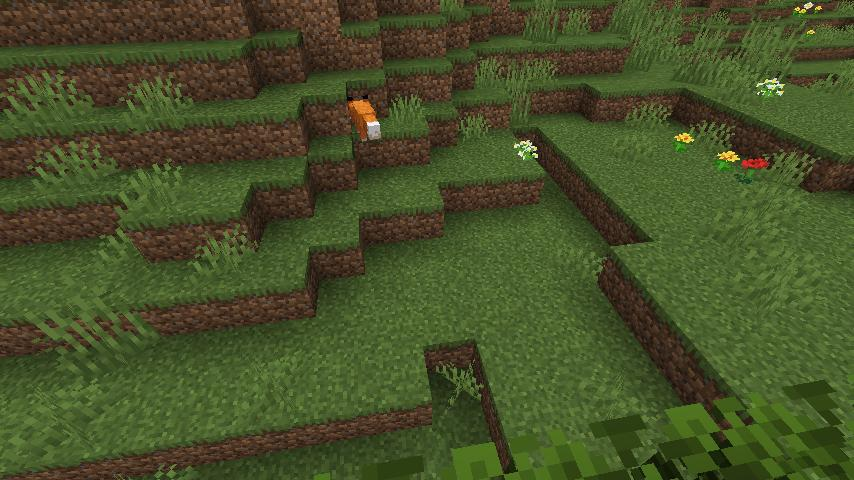fox: (341, 94, 387, 147)
